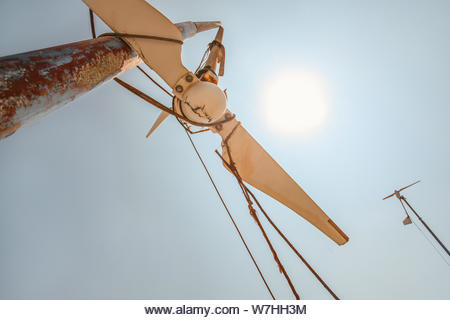faulty: (135, 50, 265, 177)
